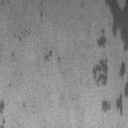red iron: (97, 0, 128, 50), (102, 62, 128, 116), (92, 58, 108, 86), (14, 28, 30, 41), (44, 50, 60, 62), (0, 100, 5, 128), (0, 0, 9, 5), (40, 12, 43, 17), (8, 84, 12, 87), (12, 53, 15, 56)
